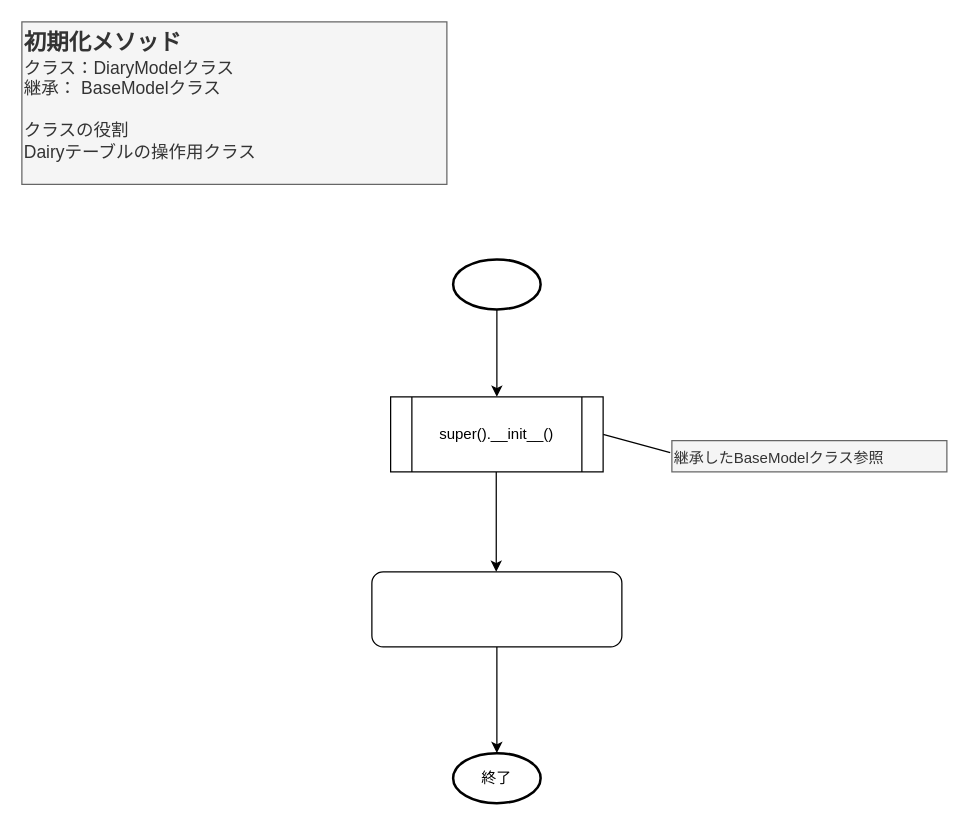
This 969x826 diagram has some shape labels left out. Each missing label, with the centre of its shape:
インスタンス変数に 文字列"Dairy"を 代入 ※使用するテーブル名: (496,609)
開始: (496,284)
